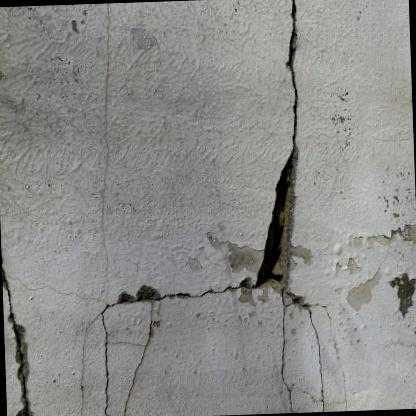crack: (96, 0, 303, 416), (1, 241, 31, 416), (306, 304, 327, 412), (278, 310, 298, 413)
